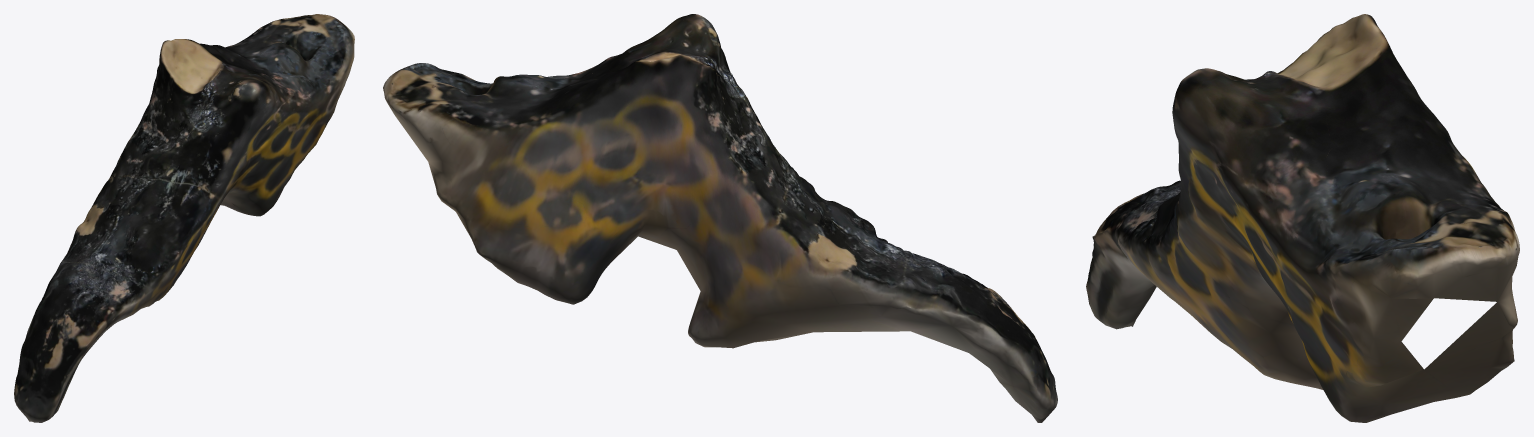
3 renders of one model, left to right at view 1: azimuth 30°, elevation 25°; view 2: azimuth 150°, elevation 25°; view 3: azimuth 270°, elevation 25°, orthographic. The views are drawn at different scales.
Bounding box in the file's own units: 1.31 × 0.8415 × 0.6873.
1 material, 1 textured.
